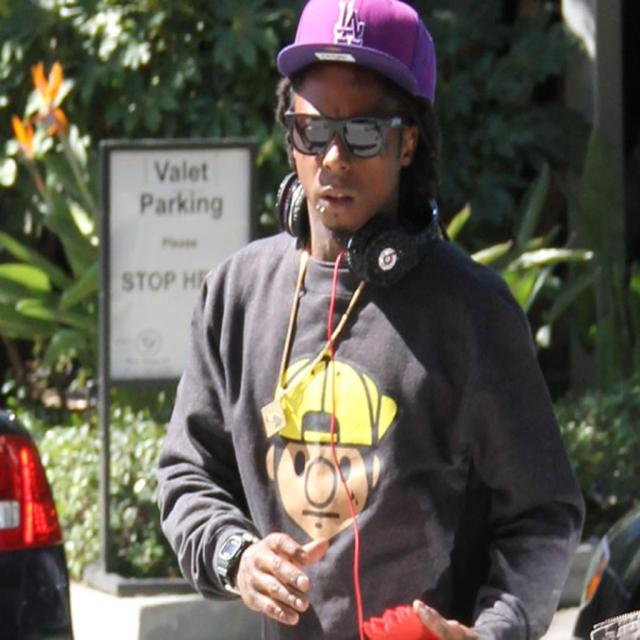Face: (282, 70, 421, 229)
